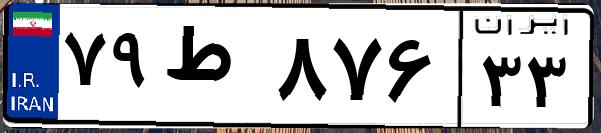3: (475, 38, 525, 113), (525, 38, 570, 115)
6: (385, 28, 445, 110)
7: (330, 28, 385, 110), (57, 26, 110, 100)
8: (270, 28, 330, 110)
9: (110, 28, 158, 98)
ط: (158, 20, 270, 120)
